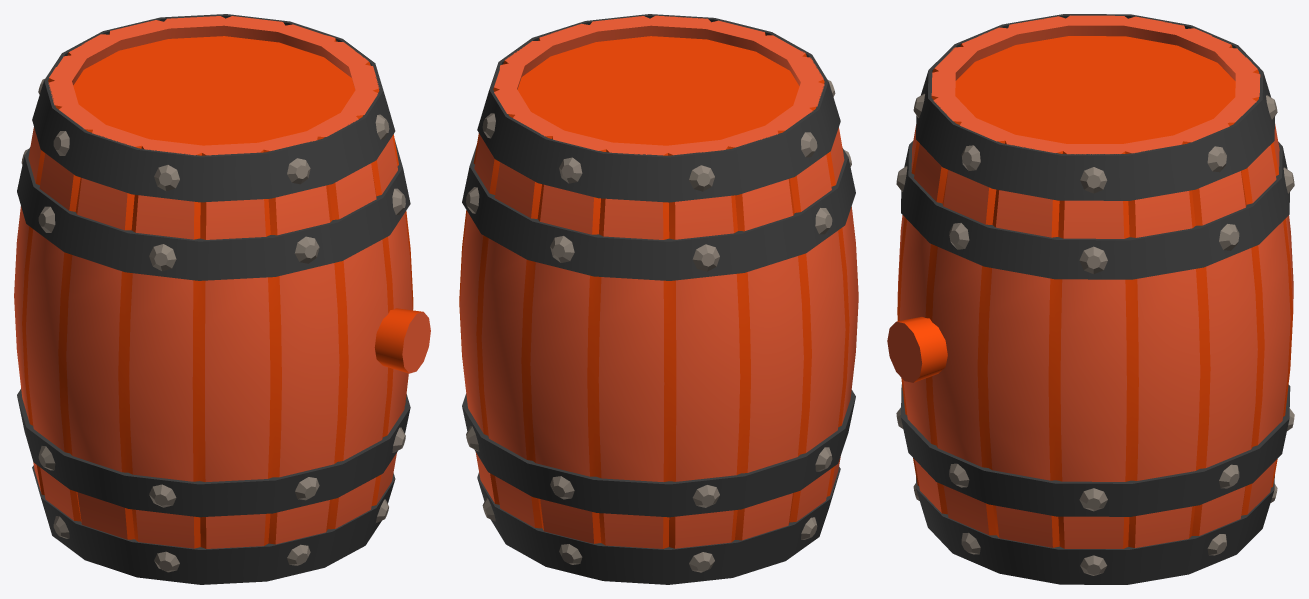
Rendered from barril.glb.
The picture shows the model from 3 angles, left to right: view 1: azimuth 30°, elevation 25°; view 2: azimuth 150°, elevation 25°; view 3: azimuth 270°, elevation 25°; orthographic projection.
Parts seen in each view (by area): view 1: Item19; view 2: Item19; view 3: Item19.
Part boxes in pixels (x1,y1,x2,y2): Item19: (14, 14, 430, 584); Item19: (459, 14, 858, 584); Item19: (887, 14, 1294, 584).
Size of what is drawn, in the model's own units: 0.3806 by 0.4526 by 0.3893.
1 material, 1 textured.
